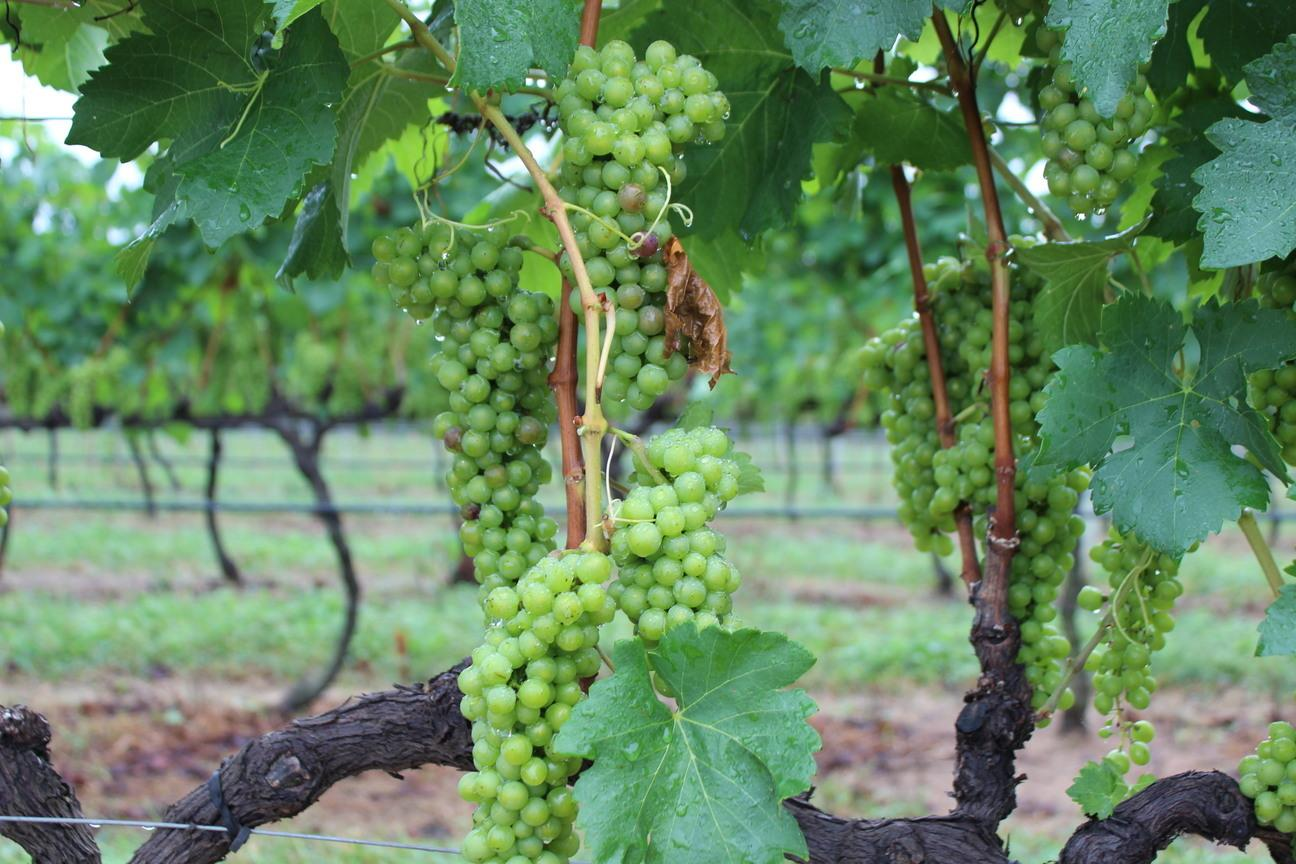leaf: (68, 0, 348, 245), (1038, 295, 1295, 556), (554, 622, 818, 862), (635, 0, 852, 237), (1192, 36, 1295, 268), (1015, 225, 1140, 352), (1046, 0, 1169, 117), (450, 0, 578, 91), (778, 0, 932, 74), (853, 86, 970, 170), (1066, 760, 1127, 818), (1256, 584, 1295, 654), (934, 0, 965, 9)
